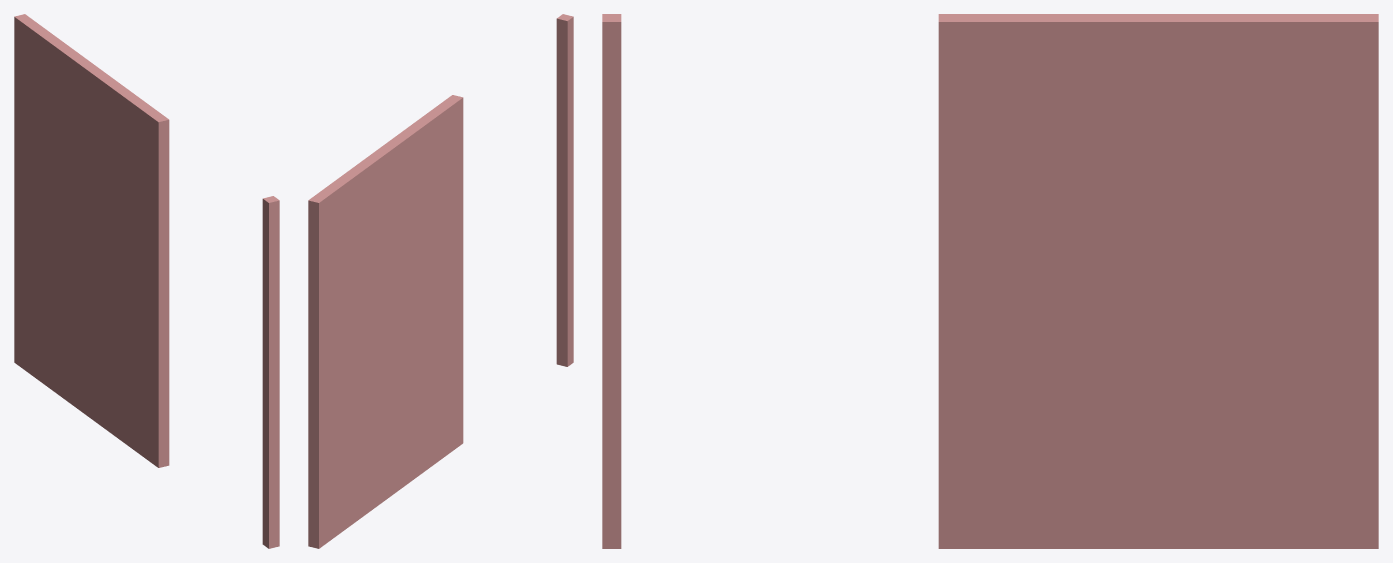
The model's file is Fence_B_Gate_A_COL.fbx.
The picture shows the model from 3 angles, left to right: view 1: azimuth 30°, elevation 25°; view 2: azimuth 150°, elevation 25°; view 3: azimuth 270°, elevation 25°; orthographic projection. The views are drawn at different scales.
Visible parts, largest first — view 1: Fence_B_Gate_A_COL; view 2: Fence_B_Gate_A_COL; view 3: Fence_B_Gate_A_COL.
Part boxes in pixels (x1,y1,x2,y2): Fence_B_Gate_A_COL: [14, 14, 279, 548]; Fence_B_Gate_A_COL: [308, 14, 573, 548]; Fence_B_Gate_A_COL: [602, 14, 1378, 548].
Bounding box in the file's own units: 7.02 × 215 × 287.
